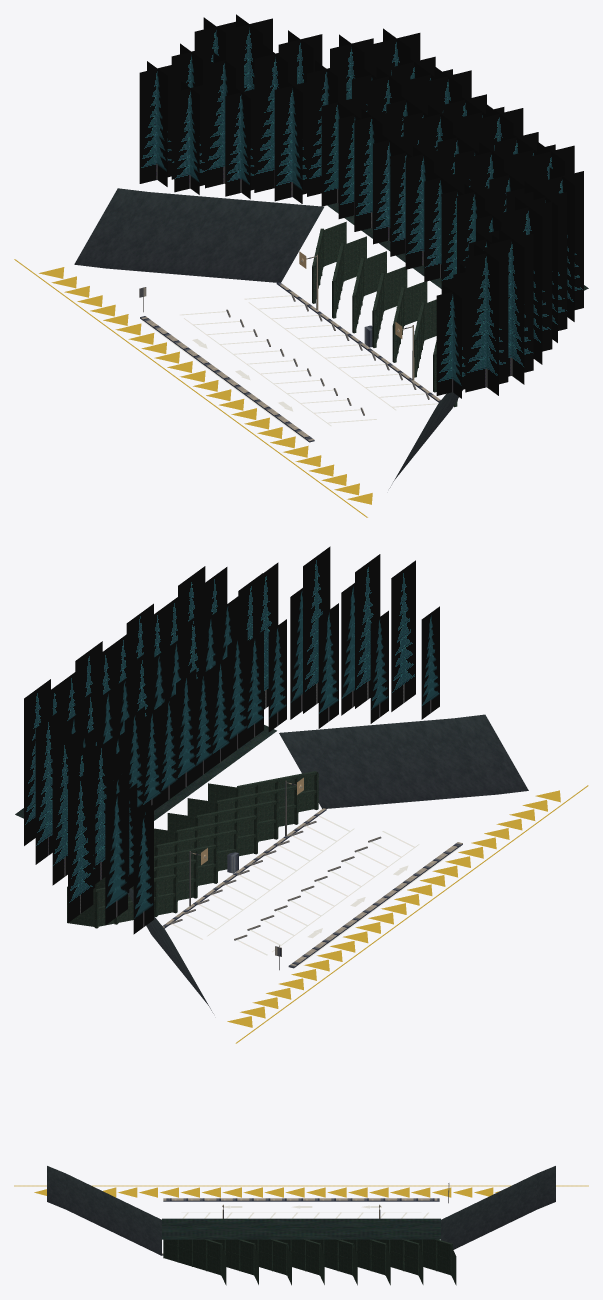
The model's file is lot_assembled_preview.glb.
3 views of the same model, one above another, from view 1: azimuth 30°, elevation 25°; view 2: azimuth 150°, elevation 25°; view 3: azimuth 270°, elevation 25° (orthographic). The views are drawn at different scales.
Parts seen in each view (by area): view 1: lot_taper_cut, lot_cedar_171, lot_road_paint, lot_cedar_162, lot_cedar_172, lot_cedar_0, lot_cedar_30, lot_cedar_21, lot_cedar_11, lot_cedar_10, lot_cedar_170, lot_cedar_20 (+38 smaller); view 2: lot_taper_cut, lot_road_paint, lot_cedar_2, lot_cedar_171, lot_cedar_162, lot_cedar_1, lot_cedar_172, lot_cedar_32, lot_stall_lines, lot_cedar_22, lot_cedar_42, lot_cedar_0 (+47 smaller); view 3: lot_taper_cut, lot_hill_verge, lot_road_paint, lattice_z44.0, lattice_z16.0, lattice_z20.0, lattice_z24.0, lattice_z28.0, lattice_z32.0, lattice_z36.0, lattice_z40.0, lot_curbs (+1 smaller).
Part boxes in pixels (box(x1,y1,x2,y2)): lot_taper_cut: box(74, 188, 462, 488); lot_cedar_171: box(465, 244, 508, 395); lot_road_paint: box(14, 259, 372, 517); lot_cedar_162: box(505, 197, 552, 364); lot_cedar_172: box(490, 230, 533, 384); lot_cedar_0: box(139, 61, 171, 186); lot_cedar_30: box(274, 82, 306, 203); lot_cedar_21: box(254, 45, 296, 192); lot_cedar_11: box(205, 52, 243, 188); lot_cedar_10: box(174, 81, 204, 194); lot_cedar_170: box(436, 285, 465, 398); lot_cedar_20: box(225, 88, 254, 199); lot_taper_cut: box(128, 714, 528, 1013); lot_road_paint: box(227, 785, 588, 1043); lot_cedar_2: box(68, 768, 93, 922); lot_cedar_171: box(391, 560, 415, 711); lot_cedar_162: box(303, 546, 330, 713); lot_cedar_1: box(105, 786, 127, 925); lot_cedar_172: box(355, 554, 380, 708); lot_cedar_32: box(35, 710, 60, 864); lot_stall_lines: box(171, 815, 460, 965); lot_cedar_22: box(52, 731, 77, 885); lot_cedar_42: box(24, 679, 50, 845); lot_cedar_0: box(133, 808, 153, 934); lot_taper_cut: box(47, 1166, 555, 1255); lot_hill_verge: box(162, 1218, 440, 1239); lot_road_paint: box(14, 1185, 588, 1197); lattice_z44.0: box(163, 1239, 226, 1285); lattice_z16.0: box(407, 1239, 456, 1285); lattice_z20.0: box(374, 1239, 423, 1284); lattice_z24.0: box(341, 1239, 390, 1285); lattice_z28.0: box(308, 1239, 357, 1285); lattice_z32.0: box(275, 1239, 324, 1284); lattice_z36.0: box(242, 1239, 291, 1285); lattice_z40.0: box(210, 1239, 258, 1284); lot_curbs: box(162, 1198, 439, 1255).
Bounding box in the file's own units: 36.03 × 23.8 × 70.
15 materials, 15 textured.
